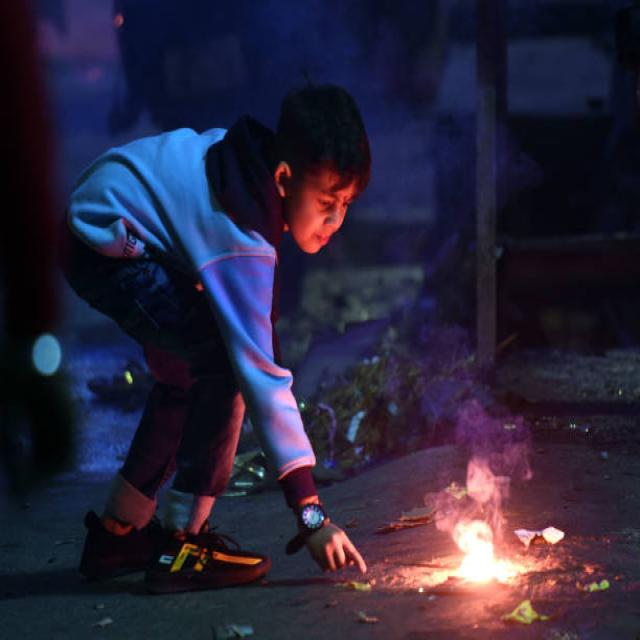fire: (454, 522, 525, 586)
